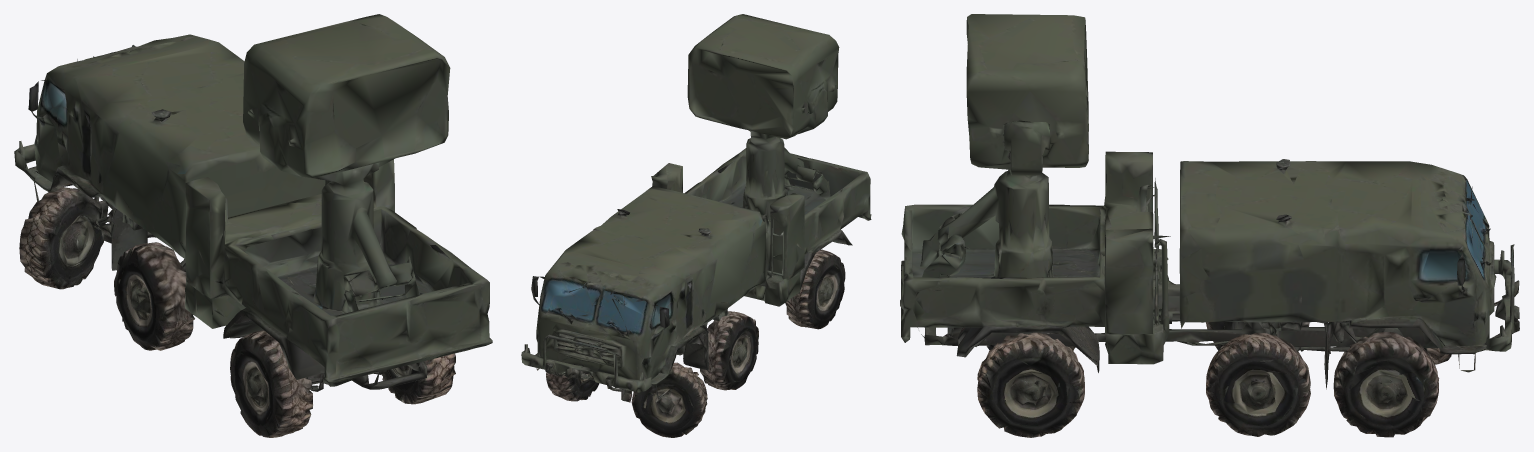
Rendered from sam-radar.glb.
3 renders of one model, left to right at view 1: azimuth 30°, elevation 25°; view 2: azimuth 150°, elevation 25°; view 3: azimuth 270°, elevation 25°, orthographic. The views are drawn at different scales.
Bounding box in the file's own units: 3.49 × 5.71 × 9.
Materials: 1 (1 with a texture image).
